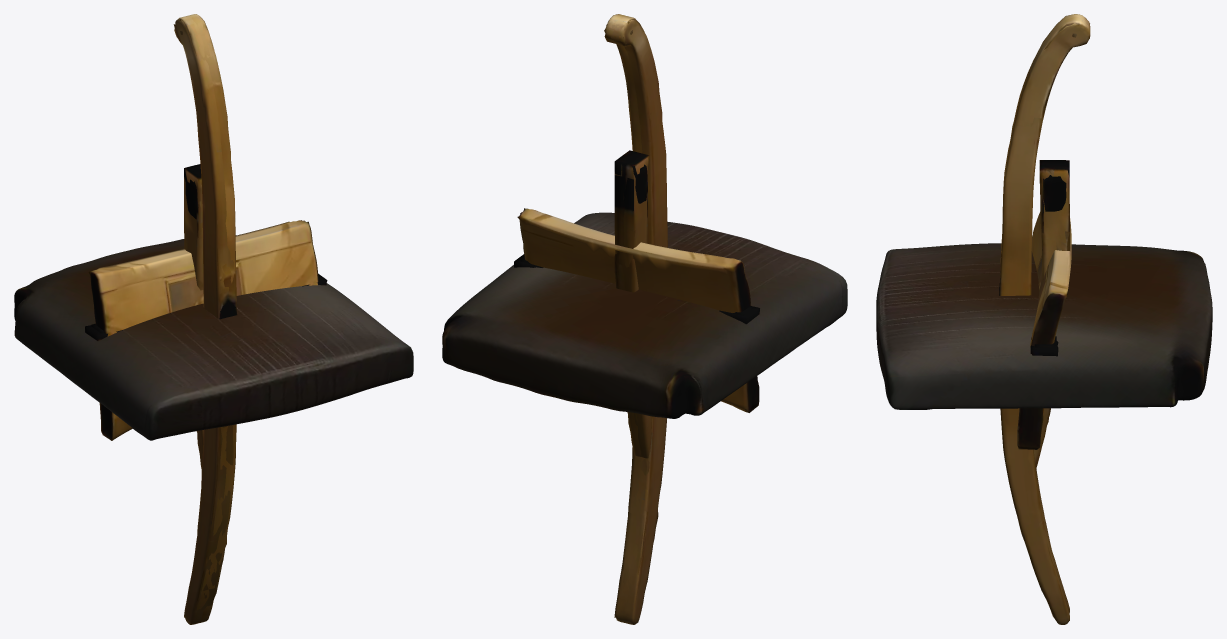
3 views of the same model, side by side, from view 1: azimuth 30°, elevation 25°; view 2: azimuth 150°, elevation 25°; view 3: azimuth 270°, elevation 25° (orthographic).
Visible parts, largest first — view 1: root.0, root.1, root.3, root.2, root.8, root.9; view 2: root.0, root.1, root.3, root.2, root.8, root.9; view 3: root.0, root.2, root.1, root.9, root.3, root.8.
Part boxes in pixels (x1,y1,x2,y2): root.0: (14,235,413,440); root.1: (88,220,318,440); root.3: (173,14,235,624); root.2: (175,14,237,624); root.8: (184,164,203,469); root.9: (184,164,203,273); root.0: (442,212,847,418); root.1: (517,208,759,412); root.3: (605,14,667,624); root.2: (604,14,666,624); root.8: (614,152,651,458); root.9: (614,150,647,456); root.0: (876,243,1212,409); root.2: (999,14,1090,624); root.1: (1017,212,1071,449); root.9: (1033,164,1070,469); root.3: (999,14,1090,624); root.8: (1039,160,1070,250).
Size of the model in its own units: 16901 by 36753 by 18559.
1 material, 1 textured.
